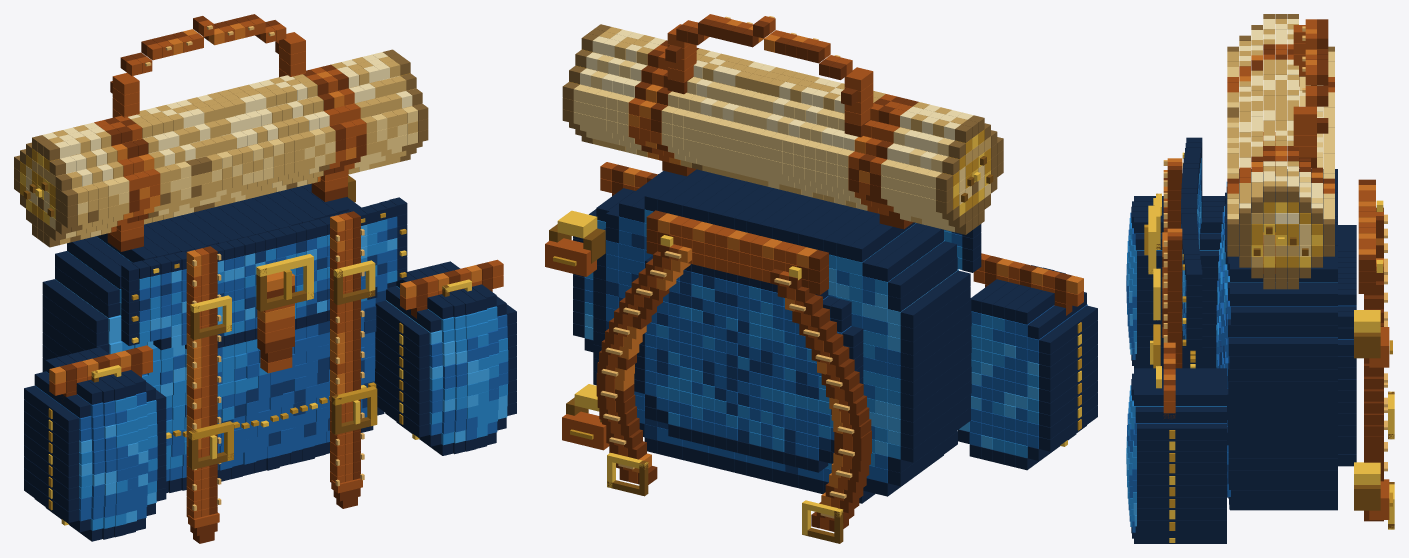
File: FishingBackpack_HQ.glb
3 views of the same model, side by side, from view 1: azimuth 30°, elevation 25°; view 2: azimuth 150°, elevation 25°; view 3: azimuth 270°, elevation 25° (orthographic). The views are drawn at different scales.
Parts seen in each view (by area): view 1: FishingBackpack_HQ_Voxel; view 2: FishingBackpack_HQ_Voxel; view 3: FishingBackpack_HQ_Voxel.
Part boxes in pixels (x1,y1,x2,y2): FishingBackpack_HQ_Voxel: (14, 14, 516, 543); FishingBackpack_HQ_Voxel: (545, 14, 1097, 543); FishingBackpack_HQ_Voxel: (1126, 14, 1394, 543).
Bounding box in the file's own units: 0.786 × 0.7478 × 0.402.
